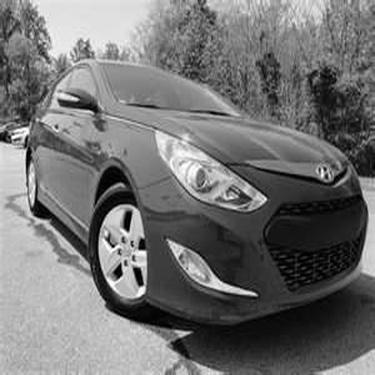car: (20, 50, 370, 332), (9, 121, 33, 148), (1, 113, 18, 142)
